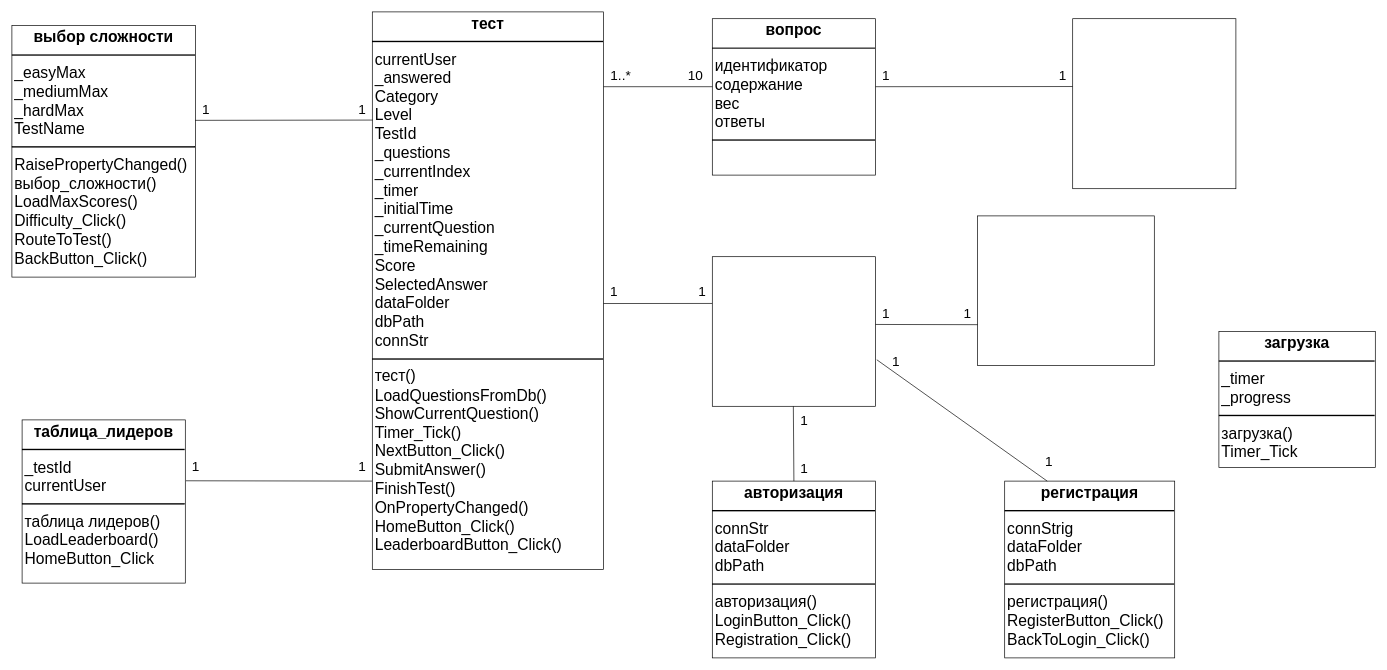
Some shapes in this 1387 by 670 pixel diagram are drawn without their labels. The centre of each missing label's shape, as x and y in pixels:
"главная currentUser главная() Tile_MouseLeftButtonUp() RouteToTest()" goes at point 1065,290.
"ответ идентификатор содержание комментарий правильный IsSelected" goes at point 1154,103.
"Пользователь Id Name Login Password" goes at point 794,331.
